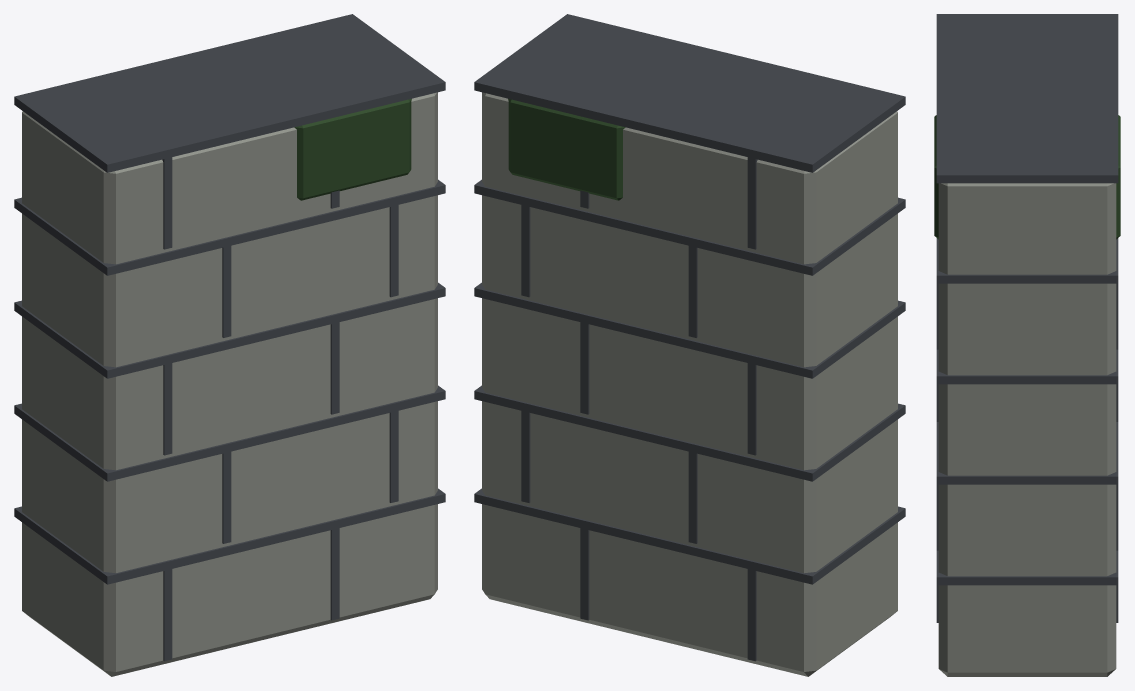
The model's file is env_wall.glb.
The picture shows the model from 3 angles, left to right: view 1: azimuth 30°, elevation 25°; view 2: azimuth 150°, elevation 25°; view 3: azimuth 270°, elevation 25°; orthographic projection. The views are drawn at different scales.
Parts seen in each view (by area): view 1: wall; view 2: wall; view 3: wall.
Part boxes in pixels (box(x1,y1,x2,y2)): wall: box(14, 14, 445, 676); wall: box(474, 14, 905, 676); wall: box(934, 14, 1120, 676).
Size of the model in its own units: 1.72 by 2.52 by 0.84.
Materials: 1 (1 with a texture image).
